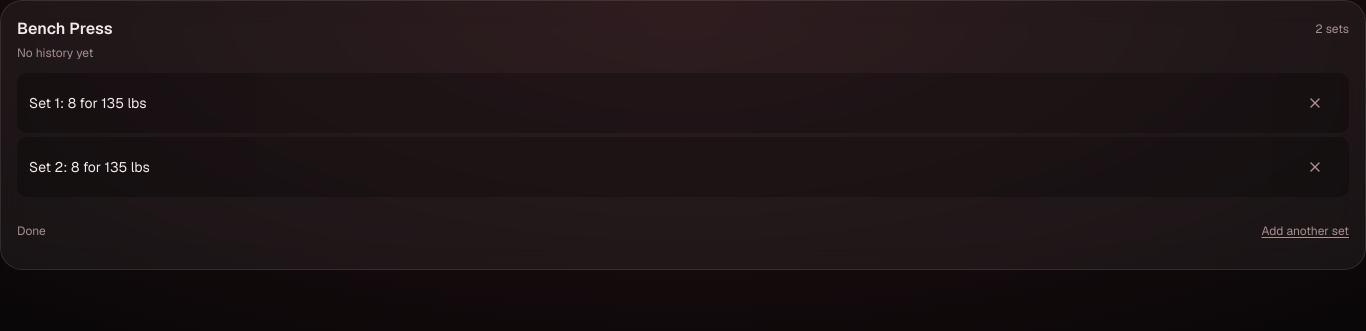
Test: editing a logged set › opens the collapsed row to edit a set
Expected: the field labelled "Reps" is not shown
Click the button with aria-label "Edit set 1" at (88, 103), box [29,81,147,125]
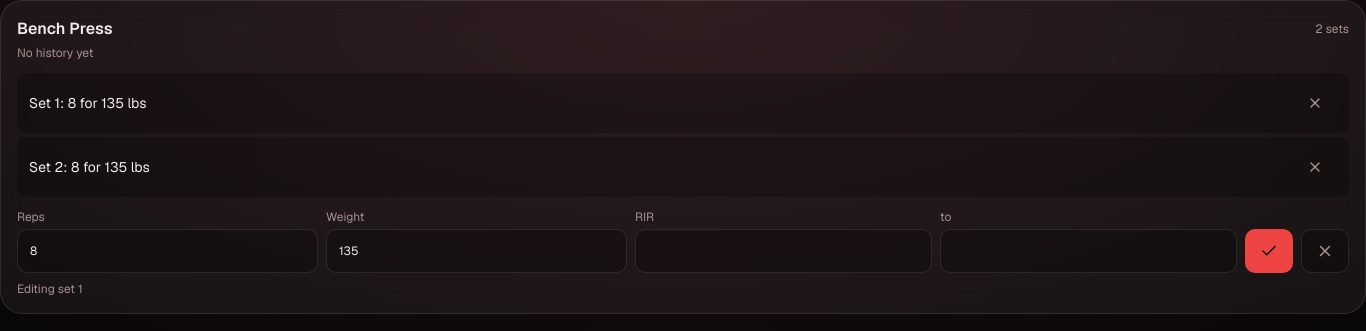
Expected: the field labelled "Reps" holds "8", [17,229,318,273]
